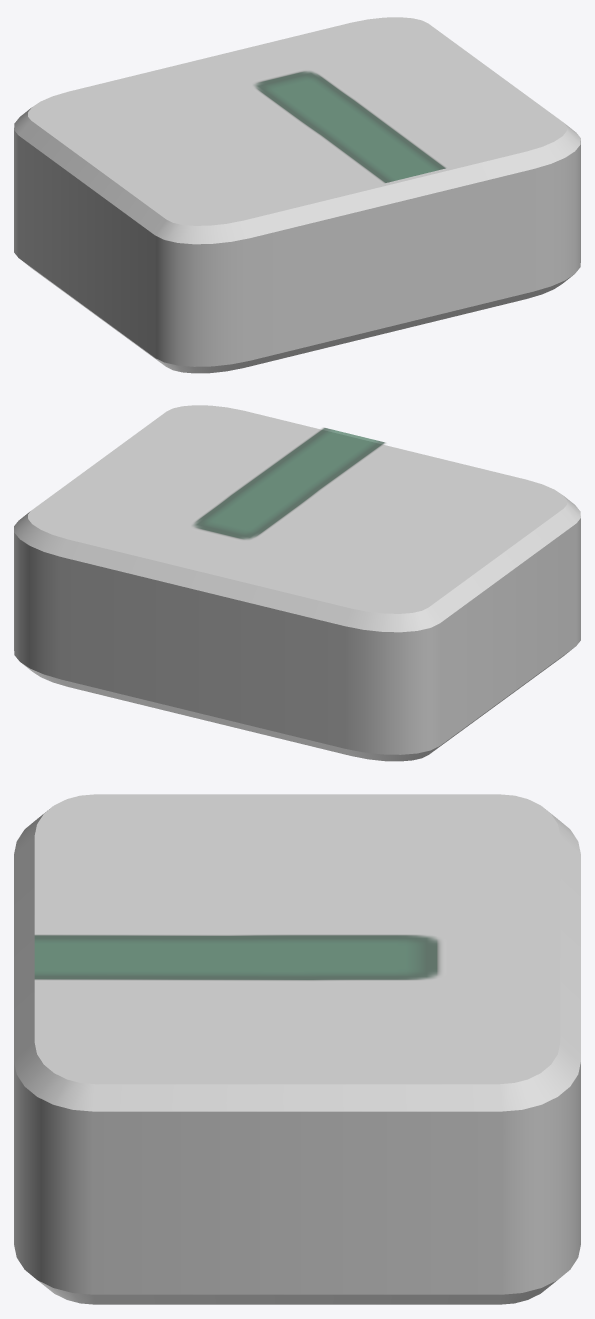
File: mahjong-tile (2).fbx
3 renders of one model, top to bottom at view 1: azimuth 30°, elevation 25°; view 2: azimuth 150°, elevation 25°; view 3: azimuth 270°, elevation 25°, orthographic. The views are drawn at different scales.
Visible parts, largest first — view 1: Mahjong Piece, Objectfill; view 2: Mahjong Piece, Objectfill; view 3: Mahjong Piece, Objectfill.
Part boxes in pixels (x1,y1,x2,y2): Mahjong Piece: (14,17,580,373); Objectfill: (255,70,447,183); Mahjong Piece: (14,405,580,761); Objectfill: (193,427,386,540); Mahjong Piece: (14,794,580,1304); Objectfill: (34,934,444,981).
Bounding box in the file's own units: 176 × 60.14 × 138.
